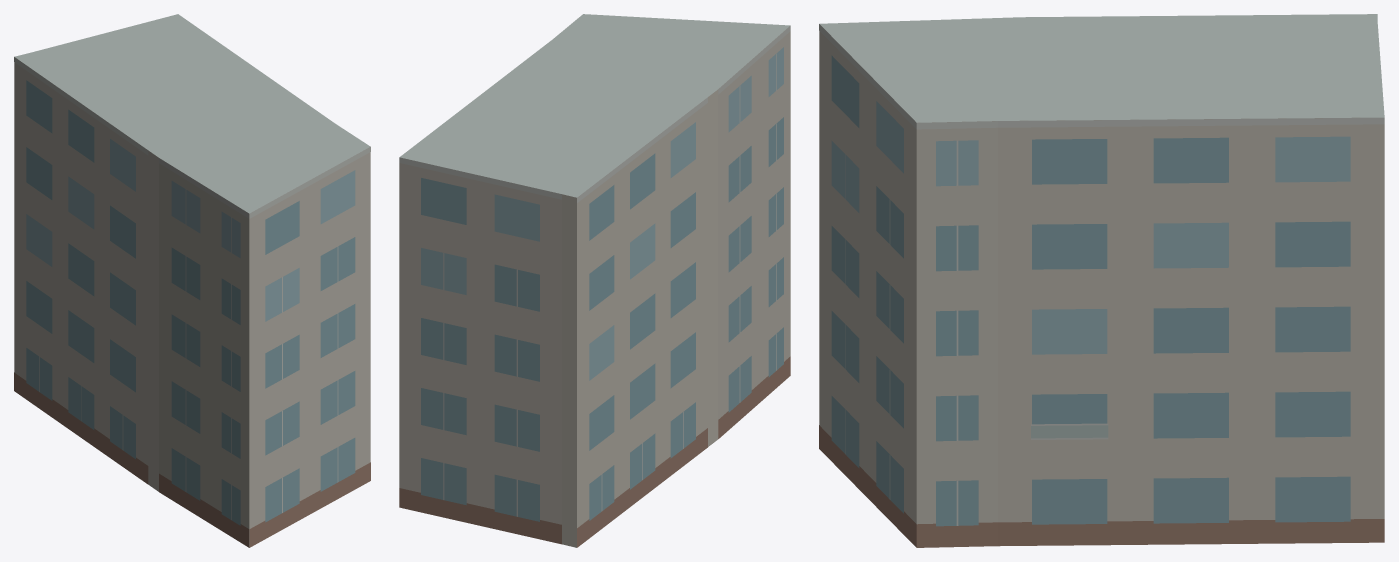
File: survey-upis-32770755.glb
The picture shows the model from 3 angles, left to right: view 1: azimuth 30°, elevation 25°; view 2: azimuth 150°, elevation 25°; view 3: azimuth 270°, elevation 25°; orthographic projection. The views are drawn at different scales.
Parts seen in each view (by area): view 1: survey-upis-32770755.tmp; view 2: survey-upis-32770755.tmp; view 3: survey-upis-32770755.tmp.
Boxes of the visible parts, x1,y1,x2,y2 form: survey-upis-32770755.tmp: (14,14,370,547); survey-upis-32770755.tmp: (399,14,790,547); survey-upis-32770755.tmp: (819,14,1384,547).
Size of the model in its own units: 8.38 by 15.25 by 18.39.
